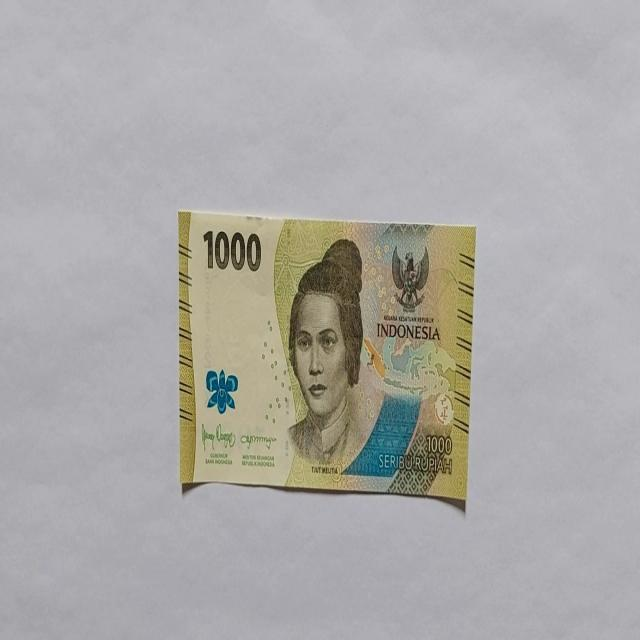seribu rupiah kertas: (178, 209, 477, 507)
